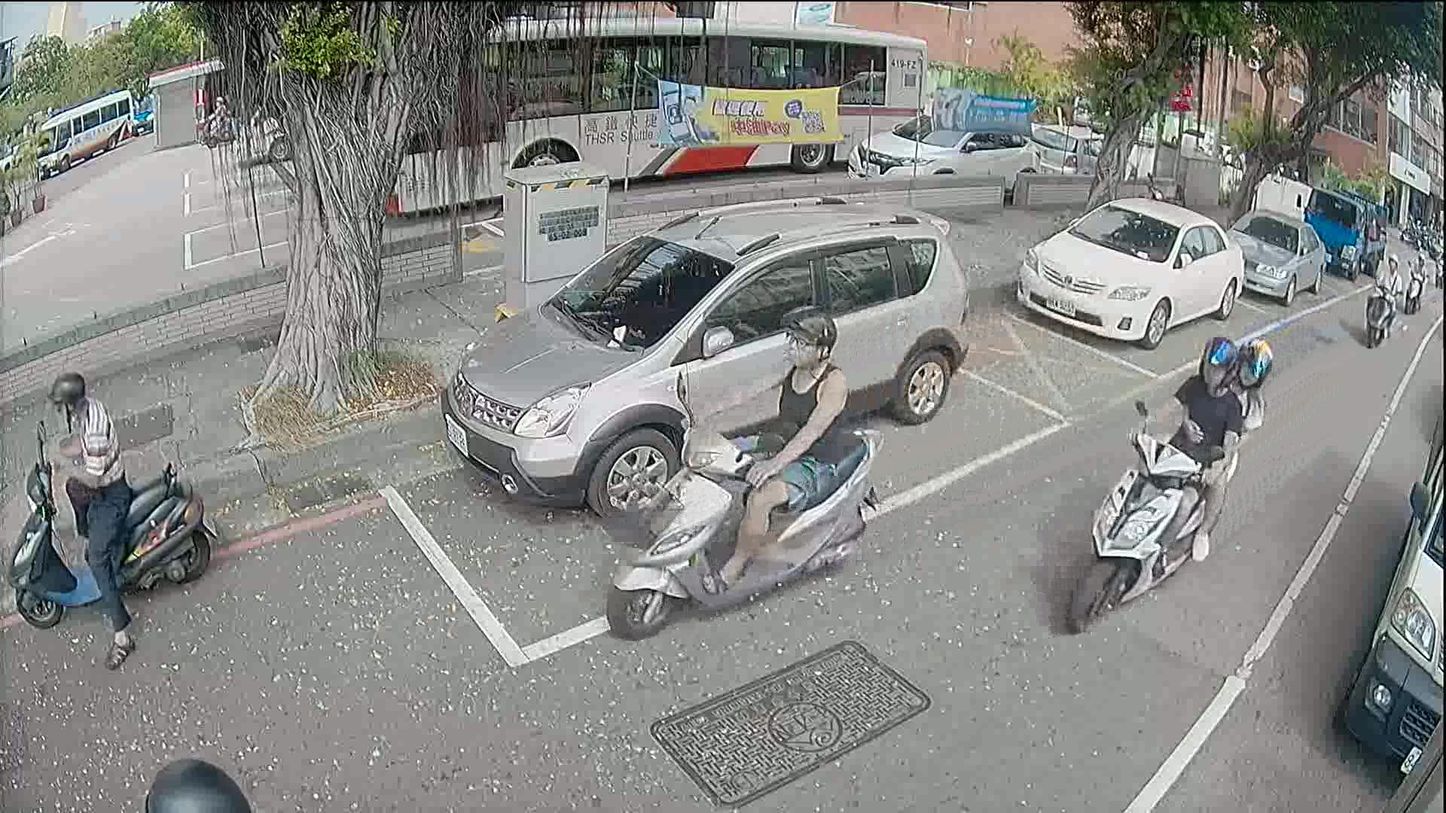person: (676, 301, 858, 597), (28, 367, 139, 663), (1127, 329, 1241, 576), (1167, 338, 1277, 551), (144, 752, 256, 812), (1372, 252, 1402, 339), (201, 92, 227, 135), (1408, 250, 1426, 279)
